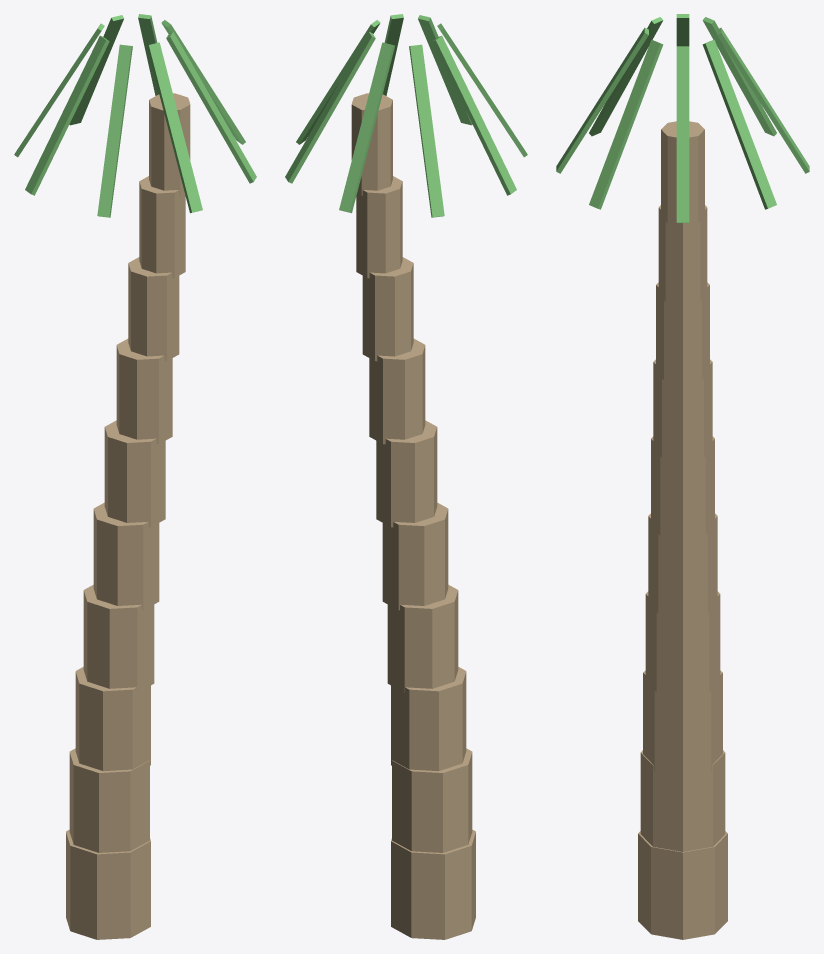
File: tree_palm.dae
3 renders of one model, left to right at view 1: azimuth 30°, elevation 25°; view 2: azimuth 150°, elevation 25°; view 3: azimuth 270°, elevation 25°, orthographic. The views are drawn at different scales.
Visible parts, largest first — view 1: Cylinder, Cylinder.001, Cylinder.002, Cylinder.003, Cylinder.004, Cylinder.005, Cylinder.006, Cylinder.007, Cylinder.008, Cylinder.009, Cube.006, Cube.005 (+6 smaller); view 2: Cylinder, Cylinder.001, Cylinder.002, Cylinder.003, Cylinder.004, Cylinder.005, Cylinder.006, Cylinder.007, Cylinder.008, Cylinder.009, Cube.002, Cube.003 (+6 smaller); view 3: Cylinder, Cylinder.001, Cylinder.002, Cylinder.003, Cylinder.004, Cylinder.005, Cylinder.006, Cylinder.007, Cylinder.008, Cylinder.009, Cube, Cube.007 (+5 smaller).
Part boxes in pixels (x1,y1,x2,y2): Cylinder: [66, 829, 150, 939]; Cylinder.001: [69, 748, 149, 852]; Cylinder.002: [75, 667, 150, 771]; Cylinder.003: [83, 584, 154, 692]; Cylinder.004: [93, 502, 159, 610]; Cylinder.005: [104, 420, 165, 527]; Cylinder.006: [116, 338, 172, 444]; Cylinder.007: [128, 257, 179, 361]; Cylinder.008: [139, 176, 185, 278]; Cylinder.009: [149, 93, 190, 195]; Cube.006: [147, 42, 202, 213]; Cube.005: [97, 44, 132, 217]; Cylinder: [391, 829, 475, 939]; Cylinder.001: [392, 748, 472, 852]; Cylinder.002: [391, 667, 466, 771]; Cylinder.003: [387, 584, 458, 692]; Cylinder.004: [382, 502, 448, 610]; Cylinder.005: [376, 420, 437, 527]; Cylinder.006: [369, 338, 425, 444]; Cylinder.007: [362, 257, 413, 361]; Cylinder.008: [356, 176, 402, 278]; Cylinder.009: [351, 93, 392, 195]; Cube.002: [339, 42, 394, 213]; Cube.003: [409, 44, 444, 217]; Cylinder: [638, 831, 727, 939]; Cylinder.001: [640, 750, 725, 851]; Cylinder.002: [643, 670, 722, 776]; Cylinder.003: [645, 591, 720, 696]; Cylinder.004: [648, 513, 717, 617]; Cylinder.005: [651, 436, 714, 539]; Cylinder.006: [653, 359, 712, 461]; Cylinder.007: [656, 282, 709, 383]; Cylinder.008: [658, 205, 707, 304]; Cylinder.009: [661, 121, 704, 225]; Cube: [676, 46, 689, 222]; Cube.007: [589, 40, 663, 209].
Bounding box in the file's own units: 78.8 × 78.8 × 310.
